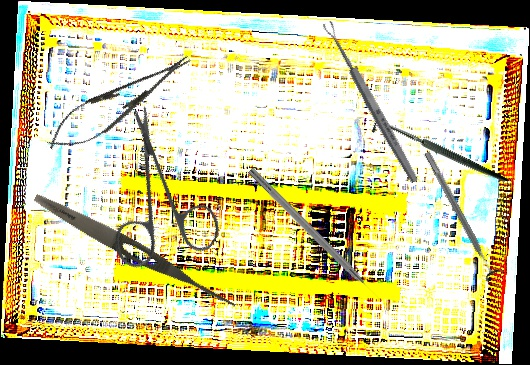Dressing Forceps: (30, 188, 241, 314)
Fixation Ring: (417, 147, 506, 283)
Hook Surgical: (367, 78, 508, 228), (245, 166, 384, 305)
Iris Scissors: (62, 102, 256, 298)
Needle Holder: (39, 42, 200, 163)
Surgical Spoon: (321, 19, 421, 185)
